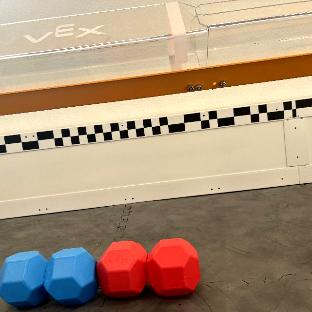V5_BLUE: (0, 248, 97, 306)
V5_RED: (98, 238, 198, 297)
